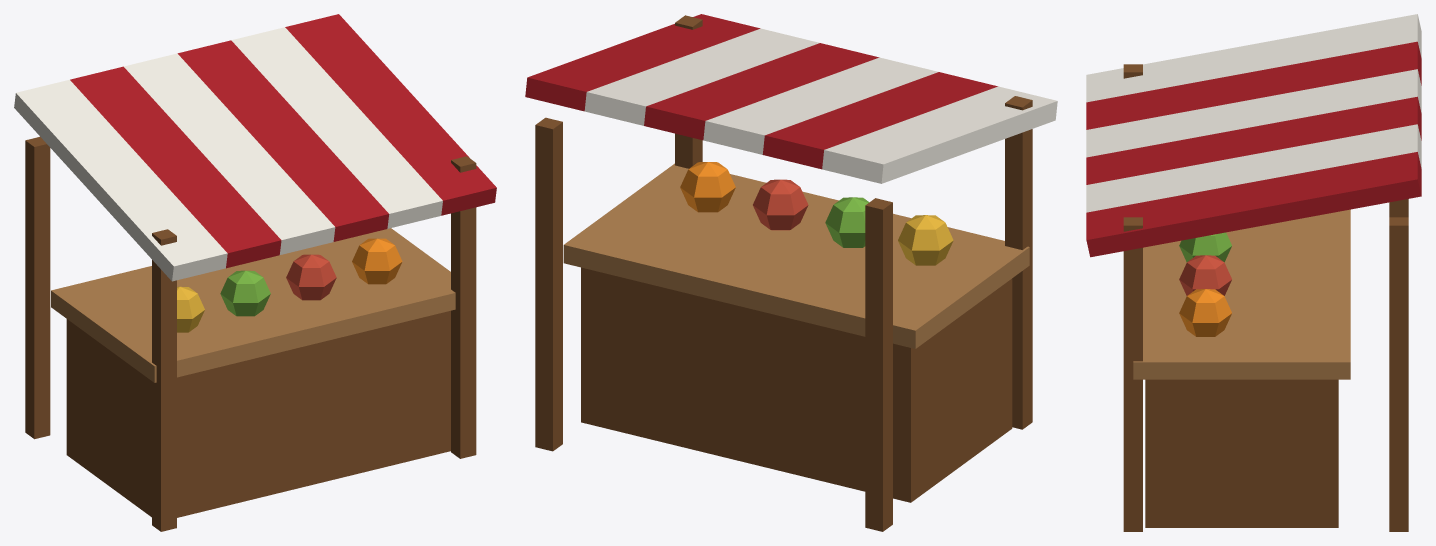
The model's file is kram.glb.
The picture shows the model from 3 angles, left to right: view 1: azimuth 30°, elevation 25°; view 2: azimuth 150°, elevation 25°; view 3: azimuth 270°, elevation 25°; orthographic projection. The views are drawn at different scales.
Parts seen in each view (by area): view 1: kram; view 2: kram; view 3: kram.
Part boxes in pixels (<box>): kram: <box>14,14,496,531</box>; kram: <box>525,14,1057,531</box>; kram: <box>1086,14,1421,531</box>.
Size of the model in its own units: 1.62 by 1.62 by 1.39.
